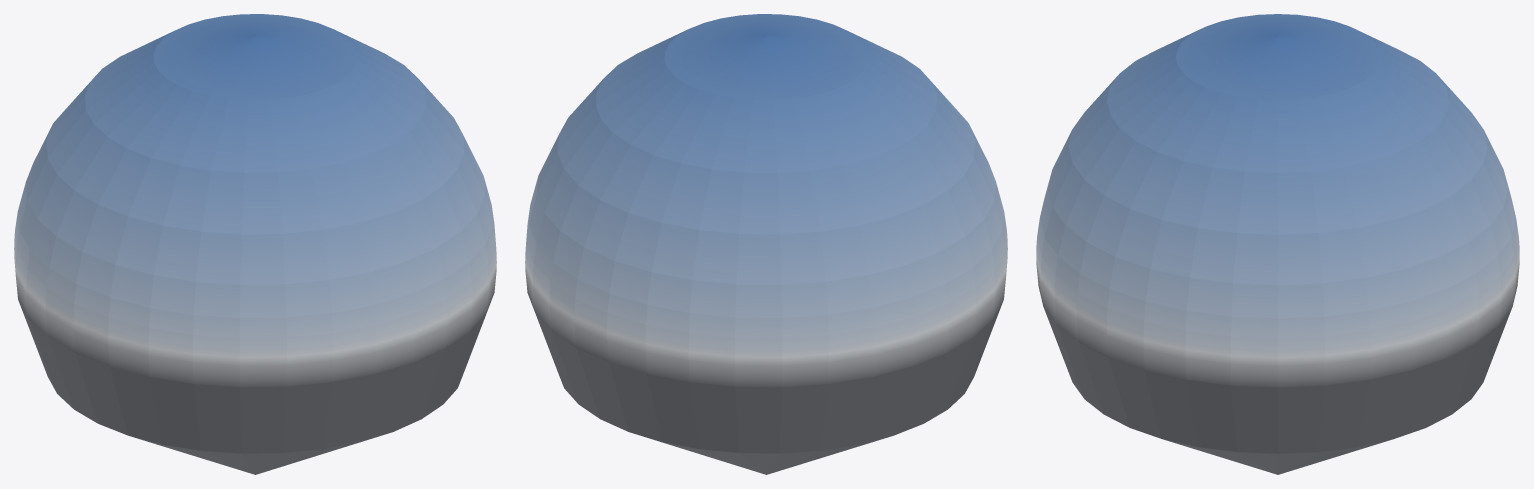
File: sky-city.glb
The picture shows the model from 3 angles, left to right: view 1: azimuth 30°, elevation 25°; view 2: azimuth 150°, elevation 25°; view 3: azimuth 270°, elevation 25°; orthographic projection.
Parts seen in each view (by area): view 1: dome; view 2: dome; view 3: dome.
Part boxes in pixels (x1,y1,x2,y2): dome: (14,14,496,474); dome: (525,14,1007,474); dome: (1036,14,1519,474).
Bounding box in the file's own units: 18000 × 18000 × 18000.
